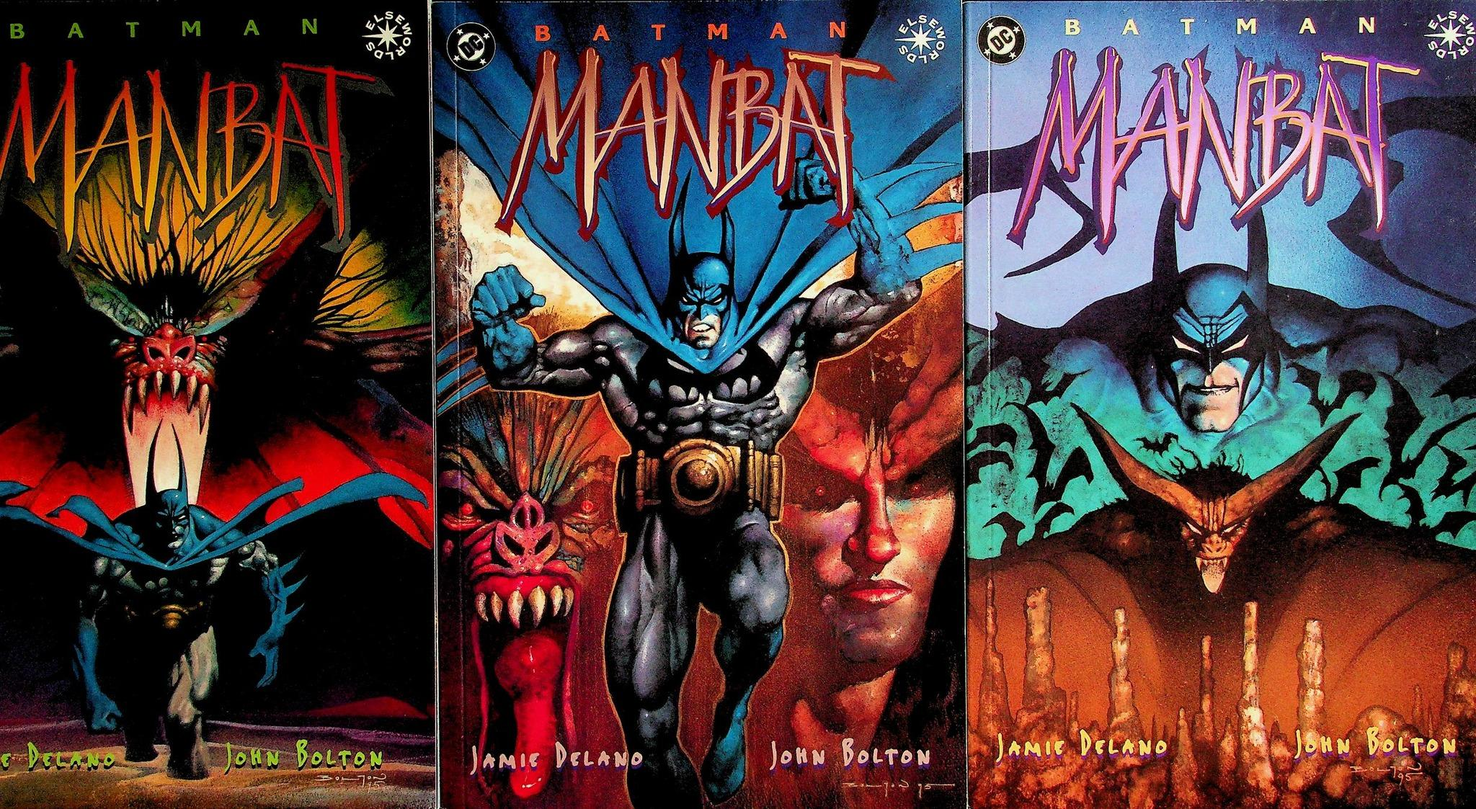comic: (432, 0, 967, 809), (965, 2, 1475, 806), (0, 2, 434, 807)
